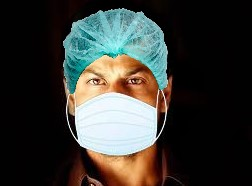with_mask_and_cap: (63, 9, 171, 157)
